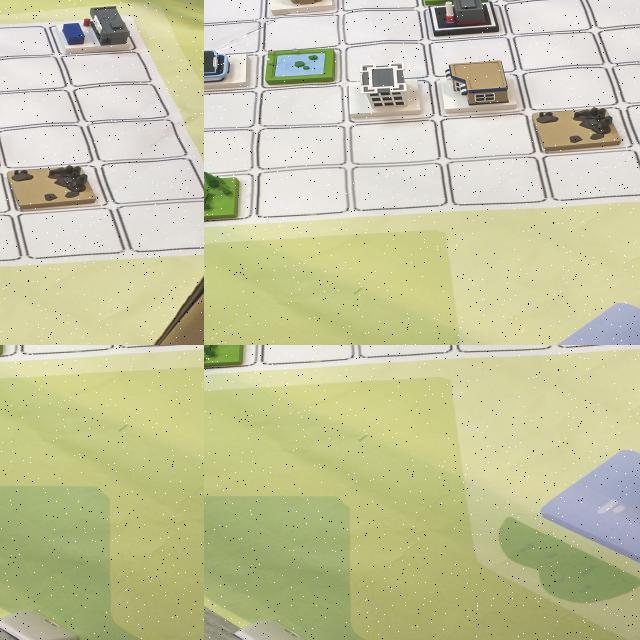bus_stop: (483, 0, 602, 60), (0, 208, 46, 255), (572, 345, 640, 372)
factory: (418, 36, 542, 98), (421, 345, 511, 369), (0, 163, 34, 202)
fish_pool: (308, 20, 424, 80), (0, 299, 50, 345), (264, 345, 356, 367)
forest: (204, 345, 271, 377), (0, 185, 43, 226), (167, 345, 204, 369)
gogo_shop: (572, 18, 640, 85), (0, 218, 43, 266), (204, 345, 263, 370)
research_build: (344, 345, 449, 375)
restaurant: (433, 345, 536, 375), (547, 0, 640, 28), (0, 320, 43, 345)
silicate_rock: (533, 345, 638, 371), (0, 254, 41, 295)
volunteer_center: (255, 345, 351, 372), (0, 287, 42, 332)
wet_land: (600, 81, 640, 147), (414, 345, 517, 362), (0, 145, 37, 182)
